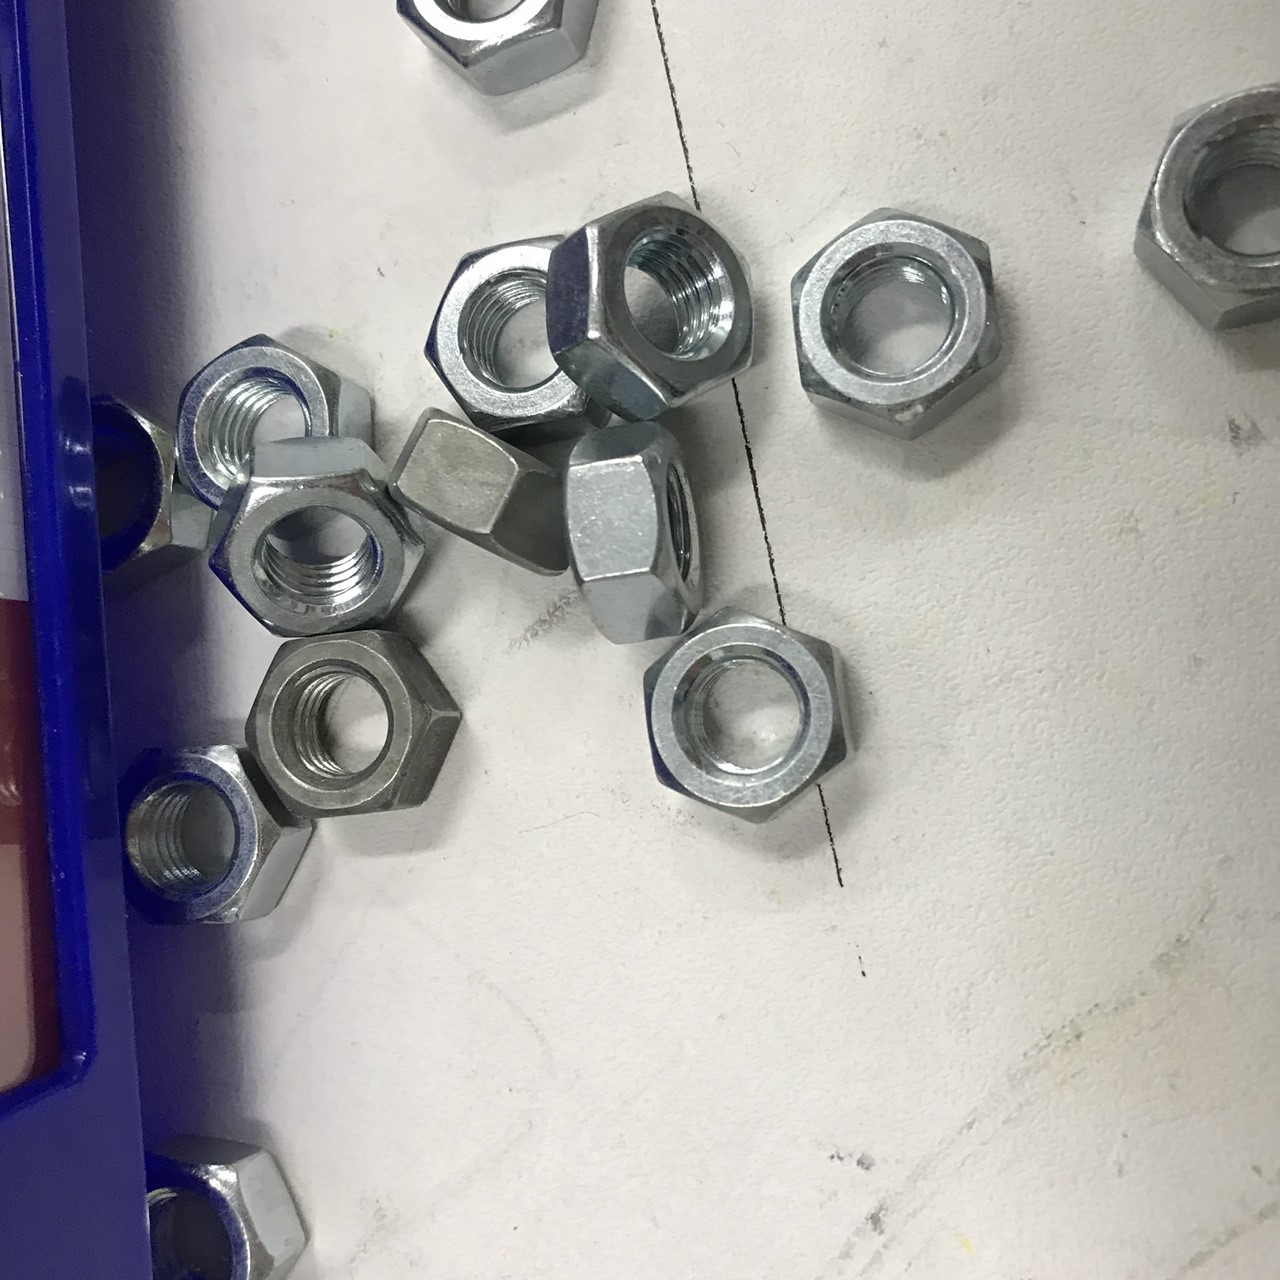nut: (635, 602, 872, 839), (783, 202, 1012, 438), (219, 629, 481, 818), (551, 191, 767, 410), (220, 436, 418, 644), (103, 736, 302, 934), (420, 226, 620, 422), (558, 420, 730, 647), (1135, 79, 1280, 331), (172, 336, 379, 509), (52, 377, 212, 593), (393, 404, 580, 584), (139, 1123, 309, 1280)
